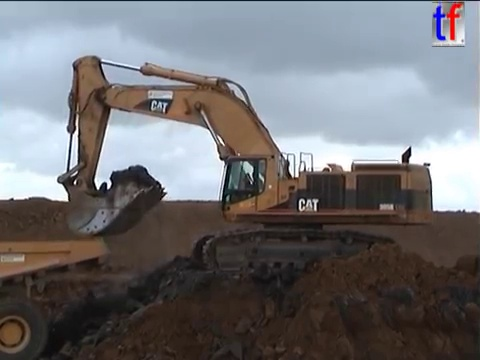excavator: (53, 52, 437, 283)
truck: (1, 231, 113, 360)
